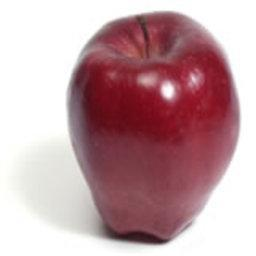apple: (67, 10, 241, 243)
